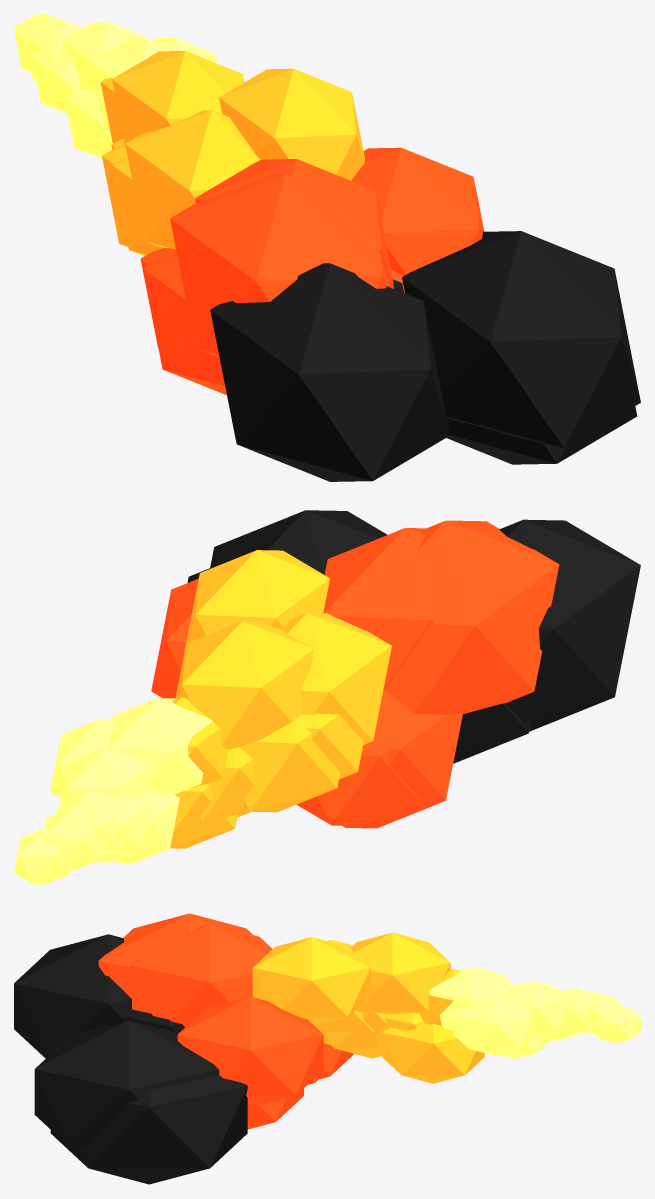
The model's file is fx_flame_stream.glb.
3 views of the same model, one above another, from view 1: azimuth 30°, elevation 25°; view 2: azimuth 150°, elevation 25°; view 3: azimuth 270°, elevation 25° (orthographic). The views are drawn at different scales.
Visible parts, largest first — view 1: Puff_25, Puff_24, Puff_21, Puff_15, Puff_18, Puff_14, Puff_11, Puff_17, Puff_20, Puff_23, Puff_4, Puff_5 (+7 smaller); view 2: Puff_21, Puff_25, Puff_11, Puff_20, Puff_15, Puff_14, Puff_17, Puff_7, Puff_12, Puff_24, Puff_16, Puff_4 (+12 smaller); view 3: Puff_24, Puff_23, Puff_18, Puff_25, Puff_20, Puff_15, Puff_11, Puff_9, Puff_6, Puff_21, Puff_7, Puff_4 (+11 smaller).
Boxes of the visible parts, x1,y1,x2,y2 form: Puff_25: [210, 263, 449, 481]; Puff_24: [402, 231, 640, 448]; Puff_21: [170, 174, 390, 357]; Puff_15: [219, 68, 364, 180]; Puff_18: [351, 147, 484, 275]; Puff_14: [125, 110, 260, 248]; Puff_11: [112, 51, 244, 146]; Puff_17: [142, 253, 226, 395]; Puff_20: [195, 159, 393, 288]; Puff_23: [446, 406, 637, 464]; Puff_4: [63, 22, 146, 89]; Puff_5: [64, 89, 113, 158]; Puff_21: [386, 520, 559, 714]; Puff_25: [499, 519, 640, 731]; Puff_11: [175, 621, 314, 749]; Puff_20: [323, 528, 436, 689]; Puff_15: [183, 550, 329, 654]; Puff_14: [282, 613, 391, 744]; Puff_17: [340, 690, 463, 828]; Puff_7: [108, 698, 212, 794]; Puff_12: [239, 714, 340, 812]; Puff_24: [210, 510, 387, 574]; Puff_16: [297, 717, 420, 825]; Puff_4: [62, 747, 150, 801]; Puff_24: [34, 1020, 219, 1149]; Puff_23: [50, 1075, 247, 1184]; Puff_18: [177, 996, 323, 1104]; Puff_25: [14, 934, 131, 1058]; Puff_20: [130, 923, 272, 1027]; Puff_15: [252, 937, 370, 1025]; Puff_11: [351, 932, 450, 1014]; Puff_9: [382, 1022, 484, 1083]; Puff_6: [453, 993, 535, 1055]; Puff_21: [98, 913, 252, 1013]; Puff_7: [429, 967, 519, 1030]; Puff_4: [512, 981, 571, 1035].
Size of the model in its own units: 0.878 by 0.6835 by 1.79.
